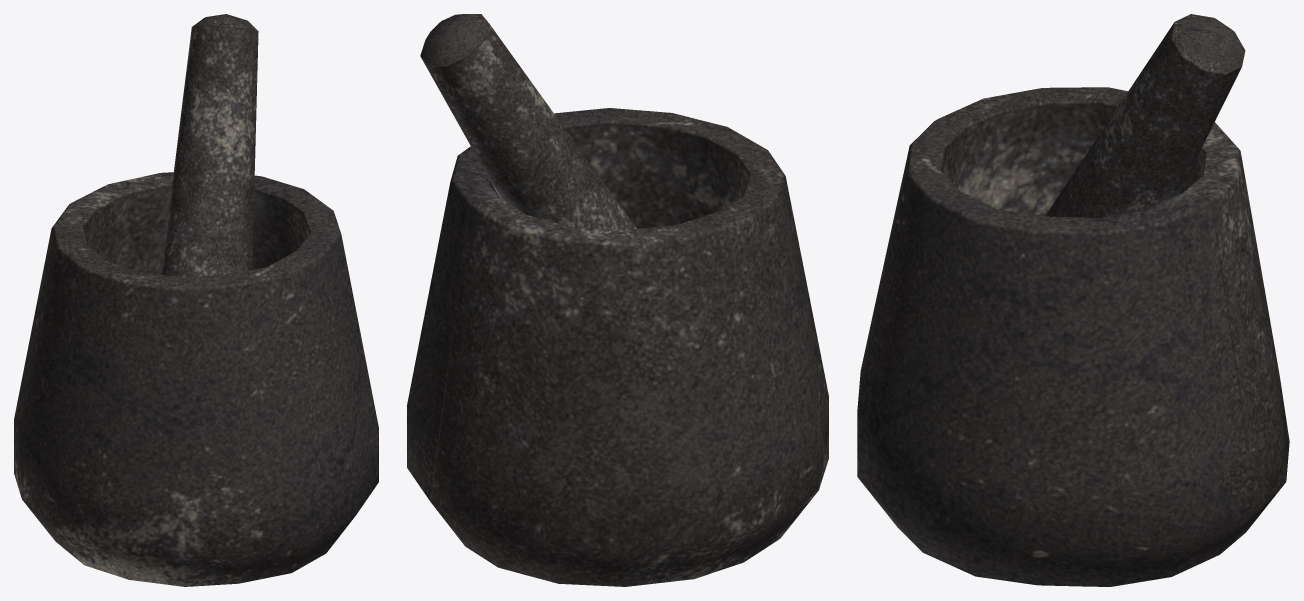
File: mortar.glb
The picture shows the model from 3 angles, left to right: view 1: azimuth 30°, elevation 25°; view 2: azimuth 150°, elevation 25°; view 3: azimuth 270°, elevation 25°; orthographic projection. The views are drawn at different scales.
Visible parts, largest first — view 1: pCylinder1, pCylinder2; view 2: pCylinder1, pCylinder2; view 3: pCylinder1, pCylinder2.
Boxes of the visible parts, box(x1,y1,x2,y2) form: pCylinder1: box(14, 172, 378, 586); pCylinder2: box(161, 14, 258, 277); pCylinder1: box(407, 108, 828, 586); pCylinder2: box(420, 14, 636, 229); pCylinder1: box(857, 87, 1289, 586); pCylinder2: box(1045, 14, 1245, 217).
Bounding box in the file's own units: 1.84 × 2.7 × 1.86.
1 material, 1 textured.
